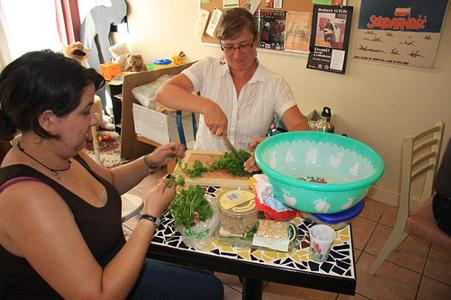person: (152, 8, 315, 175)
